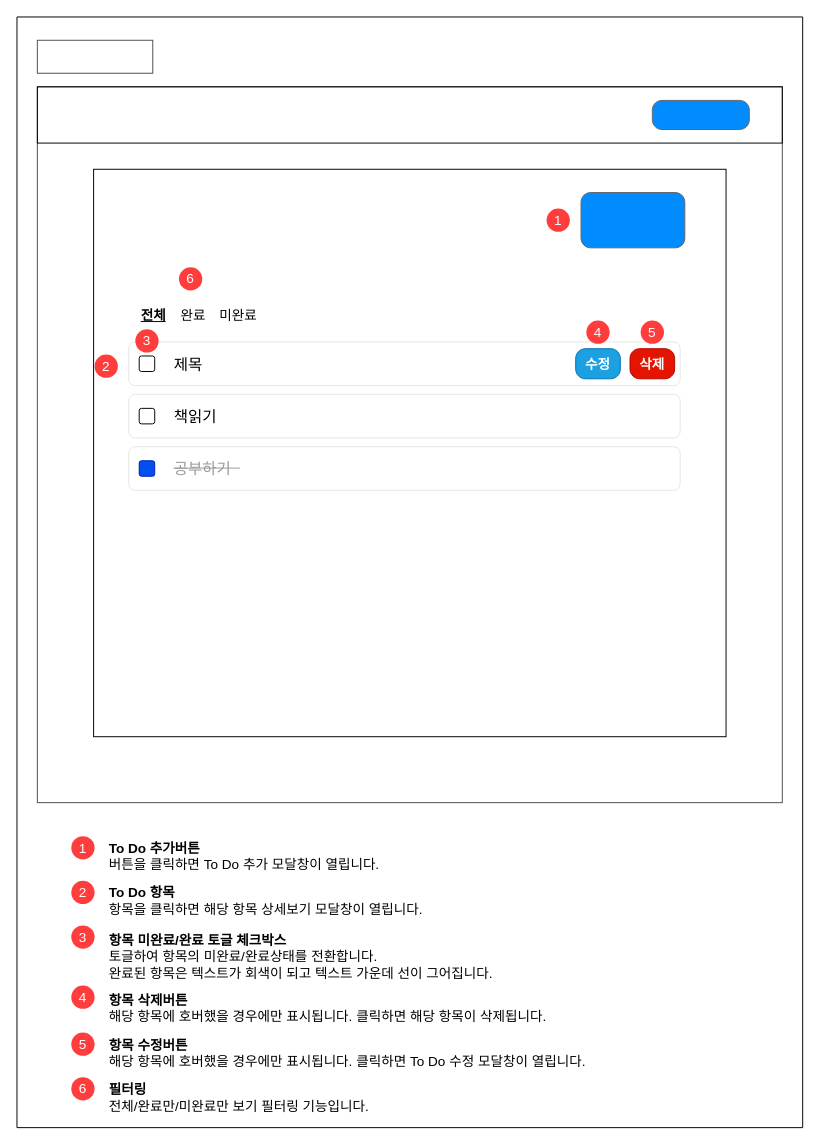
This 820x1145 diagram has some shape labels left out. Each missing label, with the box of its shape:
To Do 추가: (580, 192, 685, 248)
로그아웃: (651, 99, 749, 129)
메인 페이지: (36, 39, 153, 73)
